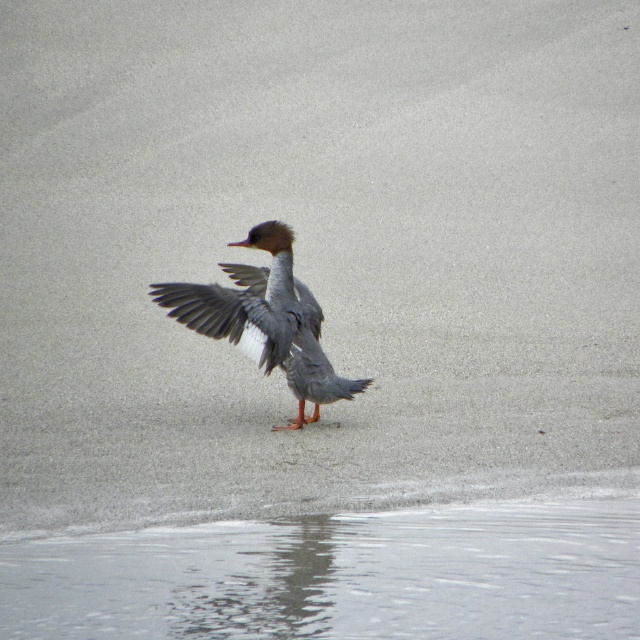Duck: (141, 217, 377, 442)
